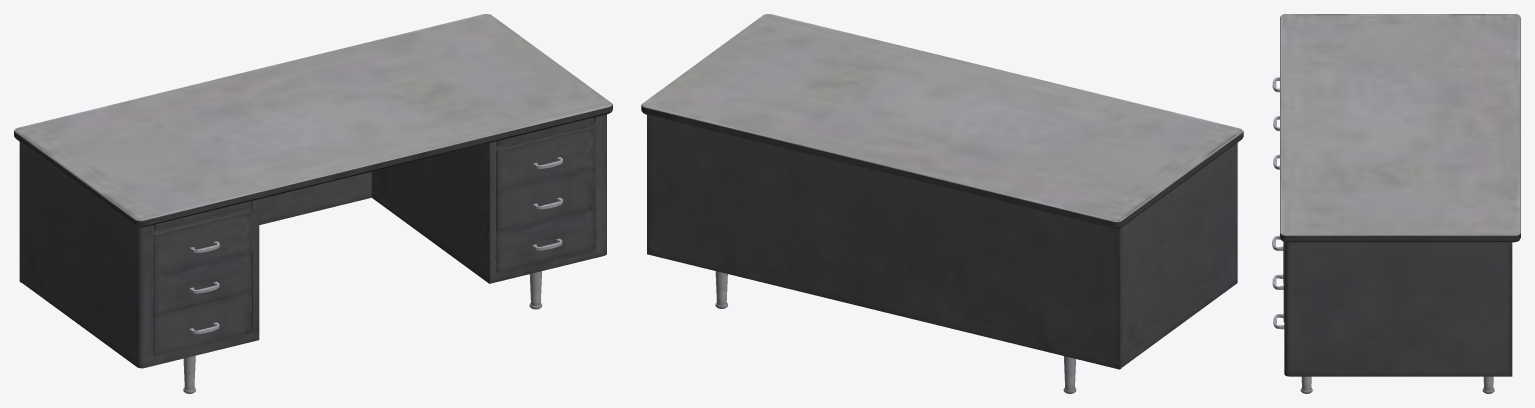
The model's file is metal_office_desk.glb.
3 views of the same model, side by side, from view 1: azimuth 30°, elevation 25°; view 2: azimuth 150°, elevation 25°; view 3: azimuth 270°, elevation 25° (orthographic). The views are drawn at different scales.
Visible parts, largest first — view 1: metal_office_desk, metal_office_desk_drawer_04, metal_office_desk_drawer_01, metal_office_desk_drawer_02, metal_office_desk_drawer_03, metal_office_desk_drawer_06, metal_office_desk_drawer_05, metal_office_desk_tray_01, metal_office_desk_tray_02; view 2: metal_office_desk; view 3: metal_office_desk.
Boxes of the visible parts, bbox=[...] form: metal_office_desk: bbox=[14, 14, 612, 393]; metal_office_desk_drawer_04: bbox=[153, 210, 252, 275]; metal_office_desk_drawer_01: bbox=[496, 126, 595, 191]; metal_office_desk_drawer_02: bbox=[496, 167, 595, 231]; metal_office_desk_drawer_03: bbox=[496, 208, 594, 272]; metal_office_desk_drawer_06: bbox=[153, 292, 251, 356]; metal_office_desk_drawer_05: bbox=[153, 252, 251, 315]; metal_office_desk_tray_01: bbox=[153, 201, 251, 230]; metal_office_desk_tray_02: bbox=[496, 117, 594, 146]; metal_office_desk: bbox=[641, 14, 1243, 393]; metal_office_desk: bbox=[1280, 14, 1520, 393].
Size of the model in its own units: 2 by 0.7875 by 0.9472.
1 material, 1 textured.
